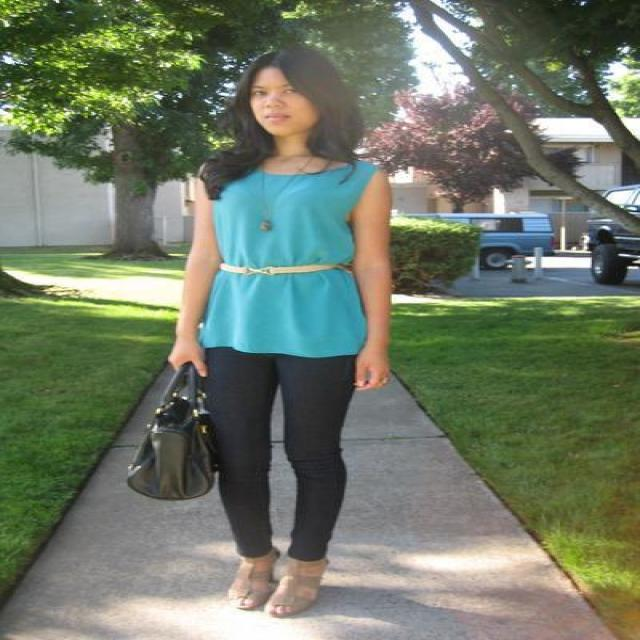bag: (126, 397, 229, 500)
pants: (173, 346, 357, 561)
shirt: (198, 160, 381, 356)
shoe: (230, 554, 340, 618)
